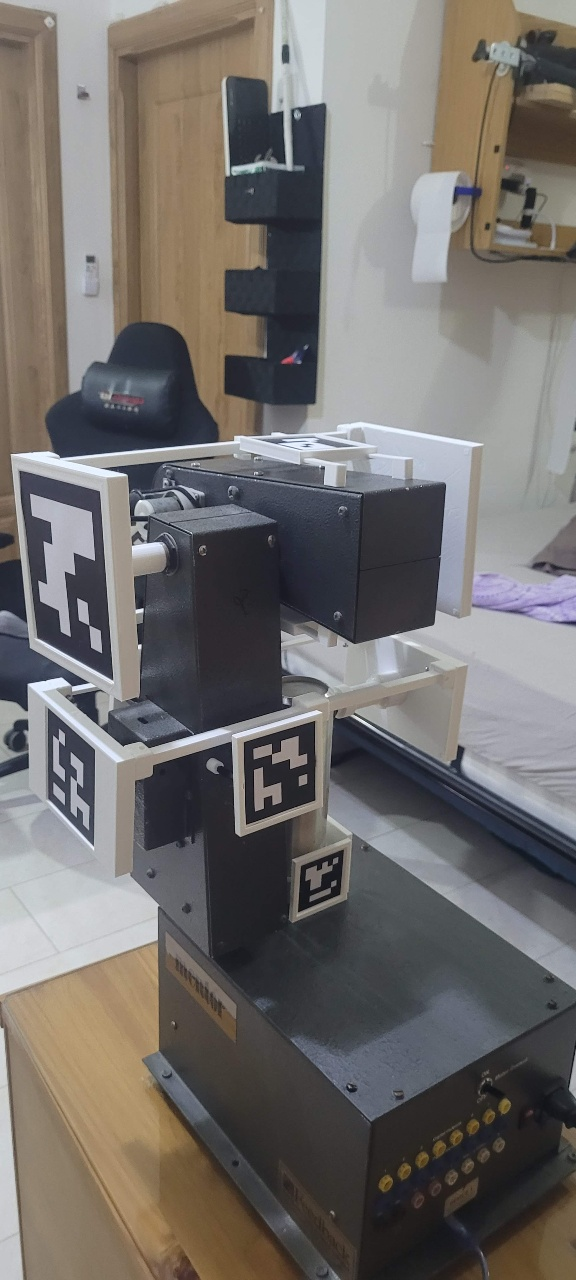Robot: (91, 130, 523, 971)
